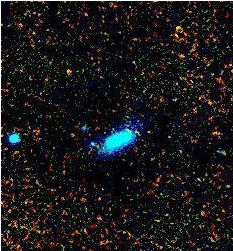star: (59, 57, 89, 87)
